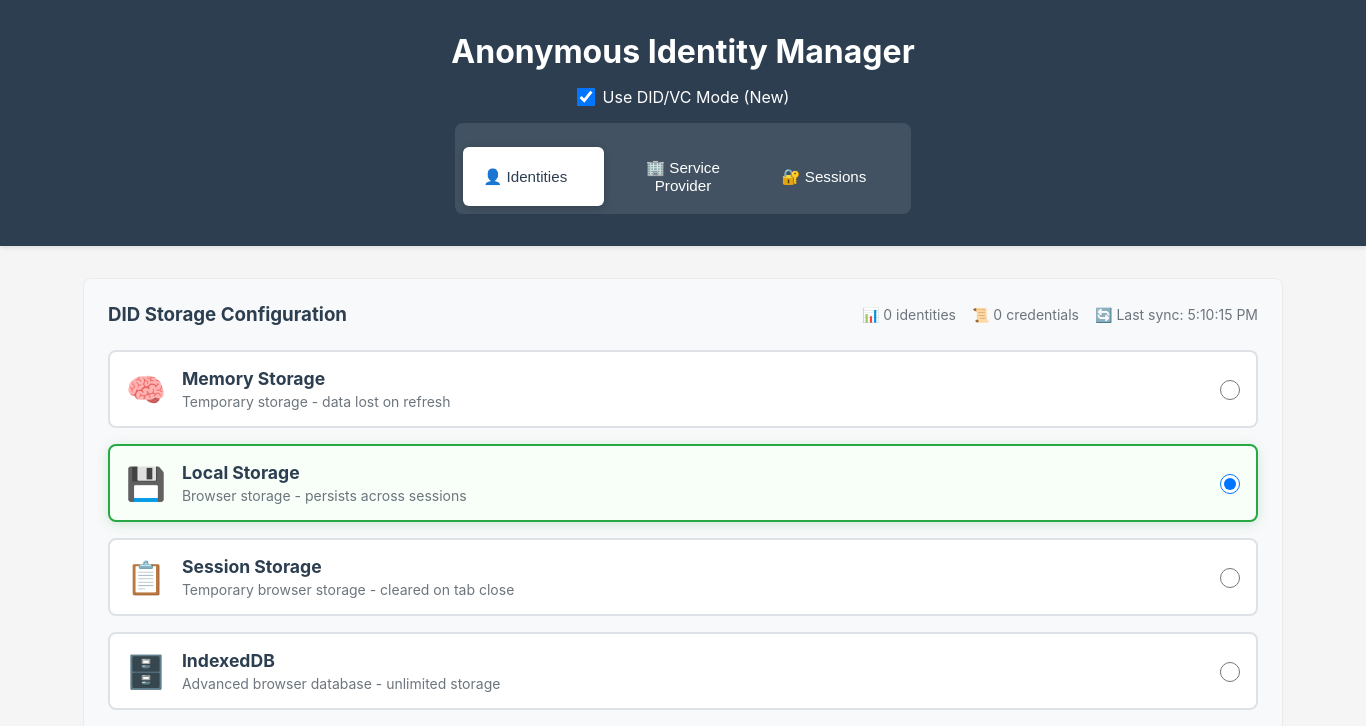
Test case: App › changes storage type when radio button is clicked
The image size is (1366, 726).
Note: First switch to legacy mode to see the old storage config
Click the checkbox labelled "Use DID/VC Mode (New)": x=586, y=97 [576, 88, 594, 106]
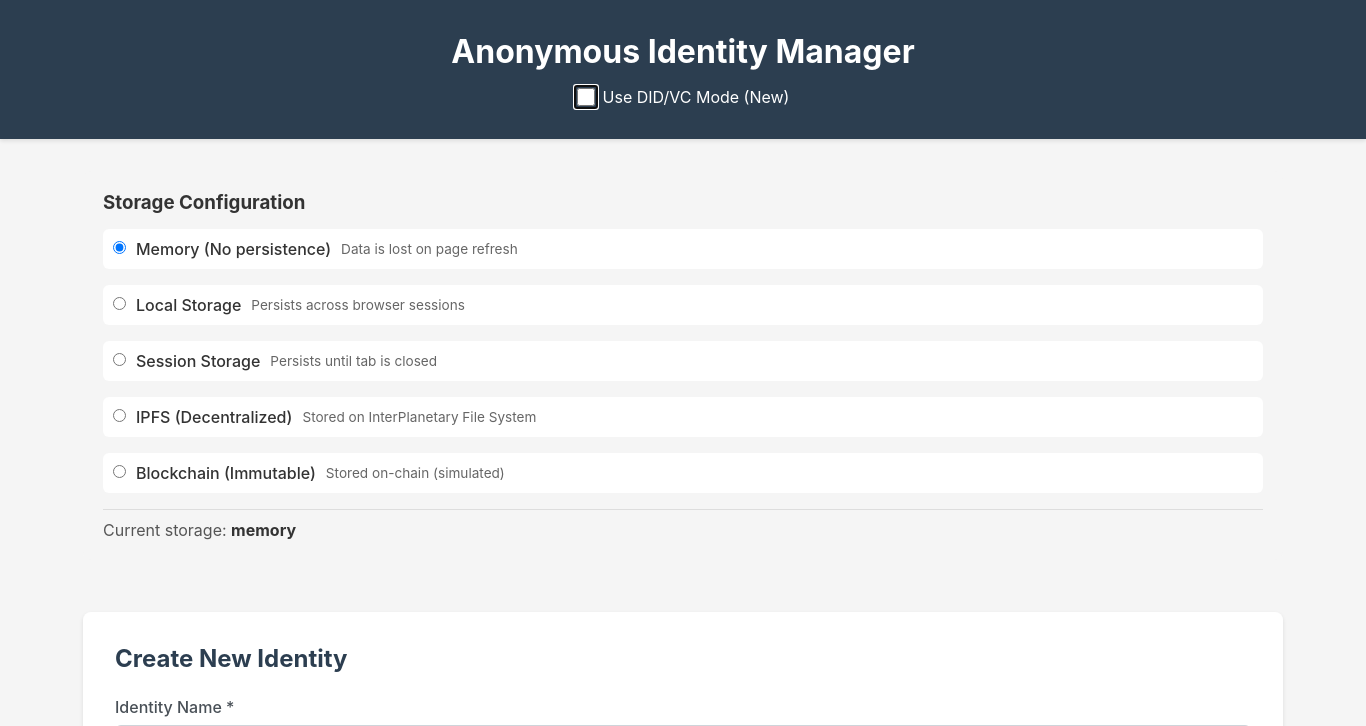
Expected: the heading "Storage Configuration" is shown, [103, 191, 305, 214]
Click the radio button showing "localStorage": x=120, y=304 [113, 297, 126, 310]
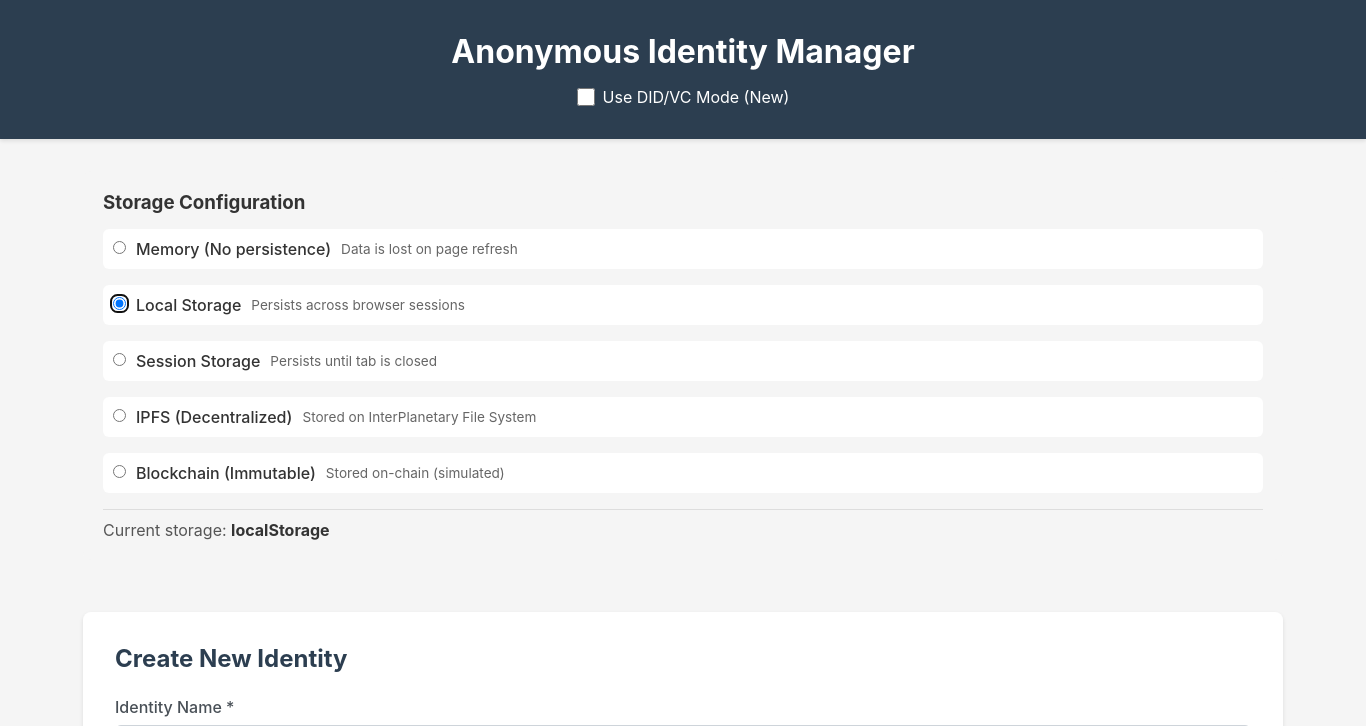
Now the text "localStorage" is shown, box [231, 520, 330, 540]
